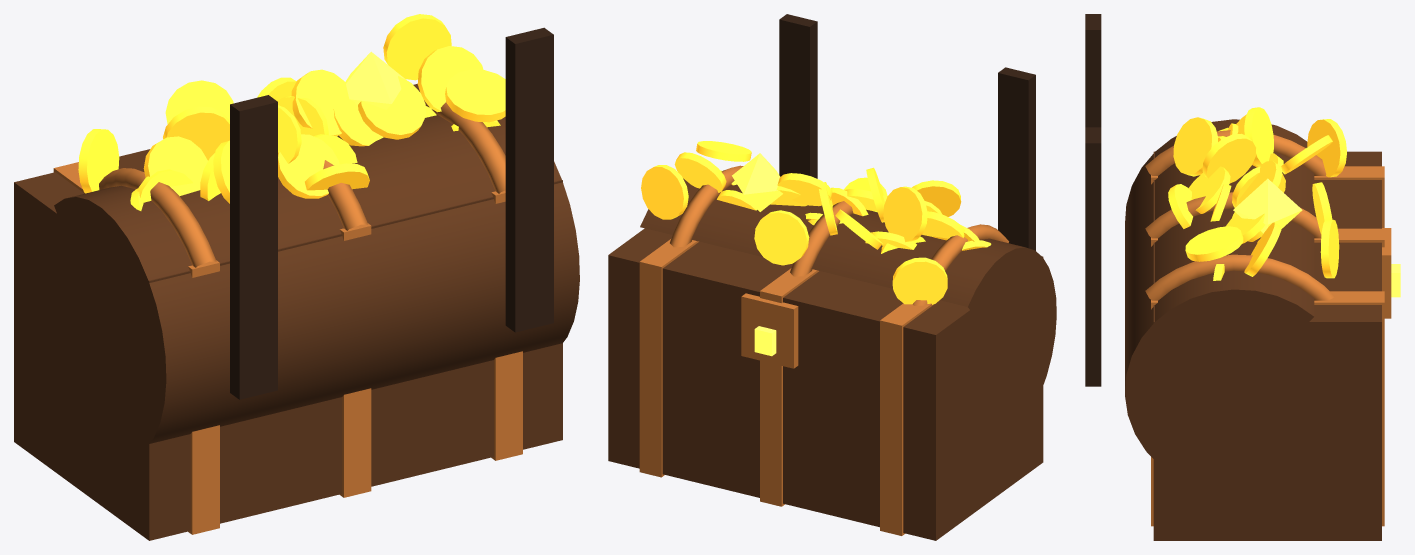
Rendered from back_eqtz3.glb.
3 views of the same model, side by side, from view 1: azimuth 30°, elevation 25°; view 2: azimuth 150°, elevation 25°; view 3: azimuth 270°, elevation 25° (orthographic). The views are drawn at different scales.
Size of the model in its own units: 1.5 by 1.56 by 1.17.
